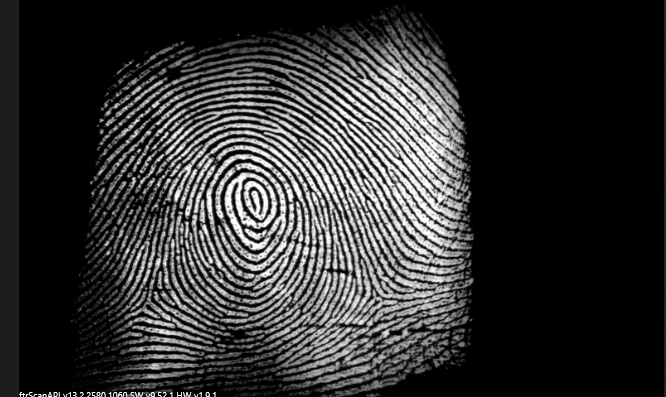nucelo: (230, 174, 282, 222)
verticilo: (356, 275, 396, 311), (131, 289, 171, 324)
